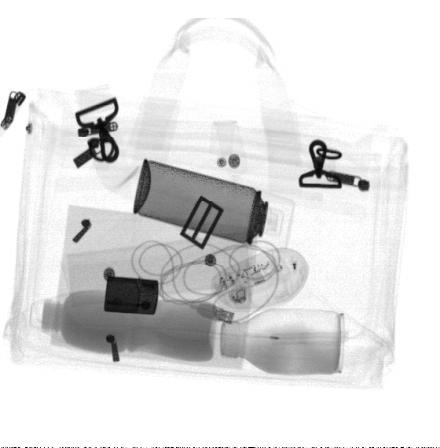Lighter: (103, 277, 159, 316)
Sprayer: (132, 158, 297, 255)
